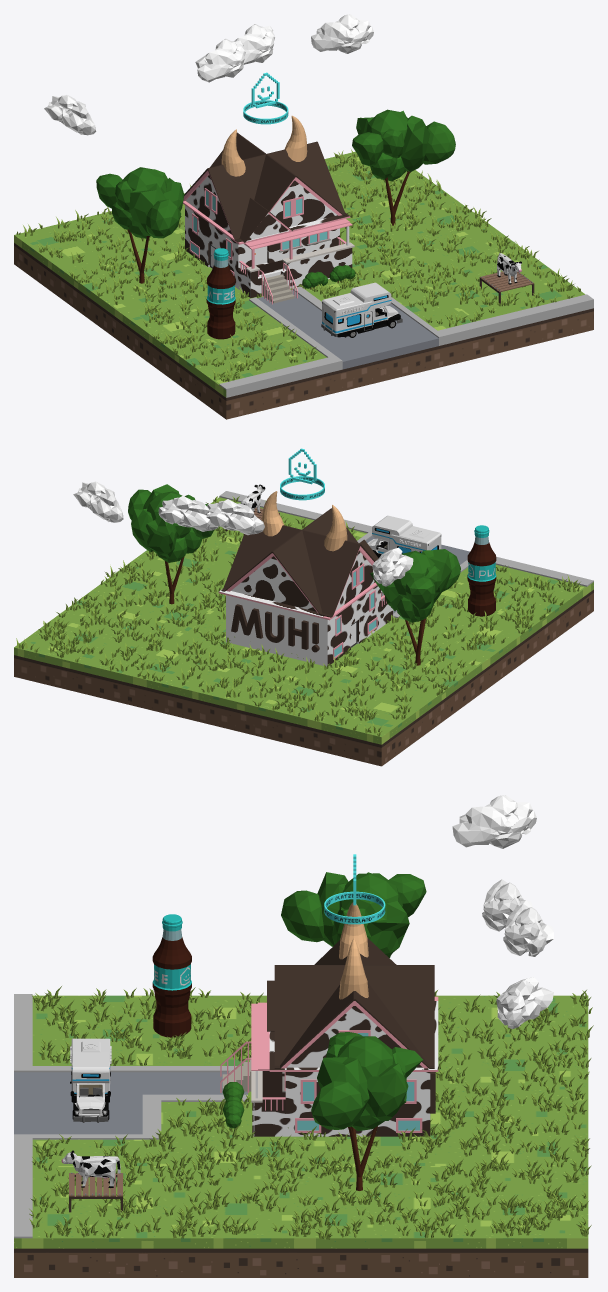
The picture shows the model from 3 angles, top to bottom: view 1: azimuth 30°, elevation 25°; view 2: azimuth 150°, elevation 25°; view 3: azimuth 270°, elevation 25°; orthographic projection. The views are drawn at different scales.
Parts seen in each view (by area): view 1: Cube.006, Cube.1242, Circle.012_Grass_0.192, Cube.007, tree, tree.001, VEHICLES_CAMPER, OBJRANDOM_PLATZEECOLA, TYPE_PREMIUM, Cube.009; view 2: Cube.006, Cube.1242, Circle.012_Grass_0.192, Cube.007, tree.001, tree, OBJRANDOM_PLATZEECOLA, VEHICLES_CAMPER, TYPE_PREMIUM; view 3: Cube.006, Circle.012_Grass_0.192, Cube.1242, tree, Cube.007, tree.001, OBJRANDOM_PLATZEECOLA, VEHICLES_CAMPER, Cube.009, TYPE_PREMIUM, ANIMAL_VACA.
Part boxes in pixels (box(x1,y1,x2,y2)): Cube.006: box(14, 151, 593, 419); Cube.1242: box(183, 115, 354, 304); Circle.012_Grass_0.192: box(16, 149, 580, 381); Cube.007: box(44, 14, 373, 135); tree: box(352, 109, 455, 225); tree.001: box(96, 167, 184, 283); VEHICLES_CAMPER: box(321, 282, 402, 337); OBJRANDOM_PLATZEECOLA: box(206, 248, 235, 339); TYPE_PREMIUM: box(243, 72, 288, 124); Cube.009: box(479, 271, 534, 303); Cube.006: box(14, 491, 593, 766); Cube.1242: box(218, 491, 393, 666); Circle.012_Grass_0.192: box(16, 496, 580, 736); Cube.007: box(73, 481, 413, 586); tree.001: box(370, 549, 460, 665); tree: box(128, 484, 214, 604); OBJRANDOM_PLATZEECOLA: box(467, 525, 496, 616); VEHICLES_CAMPER: box(367, 515, 441, 557); TYPE_PREMIUM: box(280, 448, 324, 500); Cube.006: box(14, 994, 588, 1277); Circle.012_Grass_0.192: box(29, 986, 593, 1239); Cube.1242: box(220, 902, 438, 1136); tree: box(311, 1032, 422, 1190); Cube.007: box(452, 795, 553, 1029); tree.001: box(281, 872, 426, 957); OBJRANDOM_PLATZEECOLA: box(152, 914, 191, 1037); VEHICLES_CAMPER: box(70, 1038, 111, 1122); Cube.009: box(69, 1172, 122, 1212); TYPE_PREMIUM: box(324, 854, 385, 924); ANIMAL_VACA: box(61, 1150, 120, 1187).
Size of the model in its own units: 4071 by 2301 by 4040.
44 materials, 4 textured.
